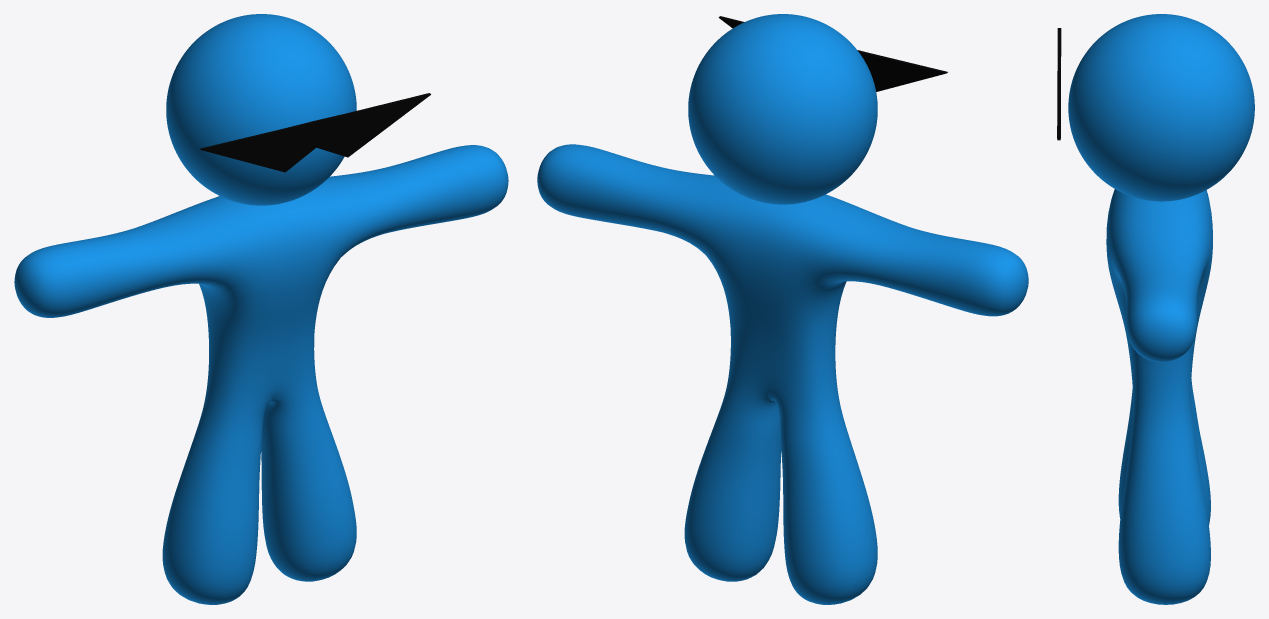
File: stickman.fbx
3 views of the same model, side by side, from view 1: azimuth 30°, elevation 25°; view 2: azimuth 150°, elevation 25°; view 3: azimuth 270°, elevation 25° (orthographic). The views are drawn at different scales.
Parts seen in each view (by area): view 1: Cube.001, Glasses; view 2: Cube.001, Glasses; view 3: Cube.001, Glasses.
Part boxes in pixels (bbox=[...]): Cube.001: bbox=[14, 14, 508, 604]; Glasses: bbox=[200, 93, 430, 172]; Cube.001: bbox=[537, 14, 1028, 604]; Glasses: bbox=[718, 16, 947, 91]; Cube.001: bbox=[1068, 14, 1254, 604]; Glasses: bbox=[1057, 28, 1061, 140].
Bounding box in the file's own units: 492 × 552 × 178.
